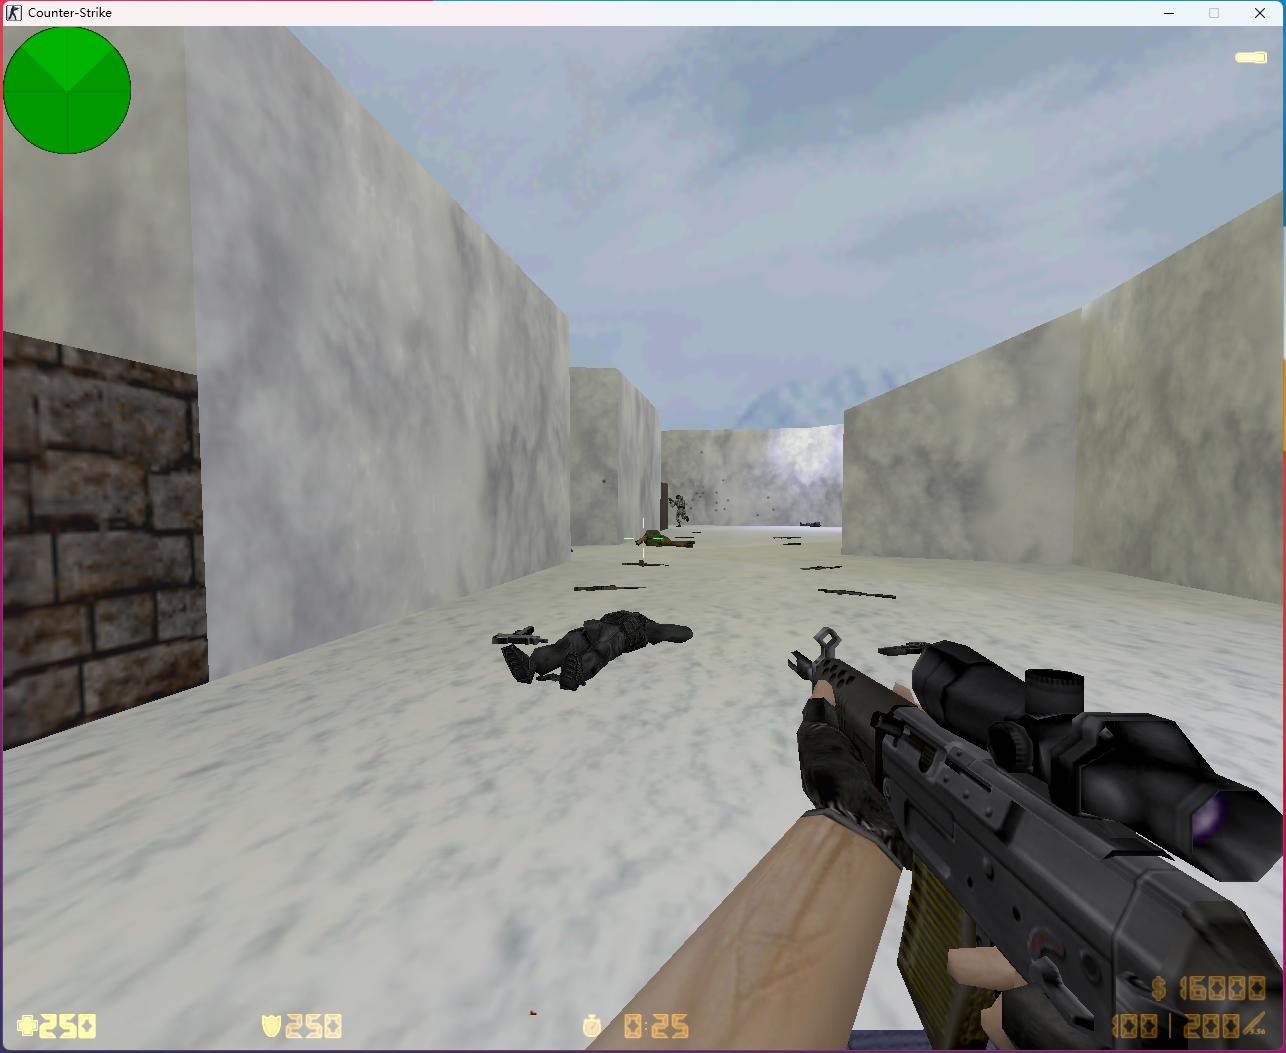T: (668, 492, 689, 526)
dead: (499, 610, 695, 690), (634, 530, 691, 549)
weapon: (874, 639, 944, 657), (820, 587, 899, 602), (577, 580, 645, 592), (797, 562, 845, 573), (623, 559, 666, 569)
